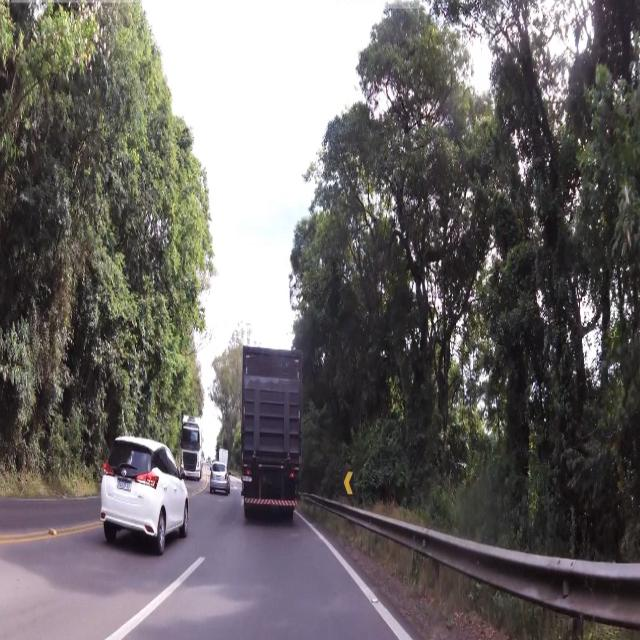Del: (342, 468, 361, 505)
